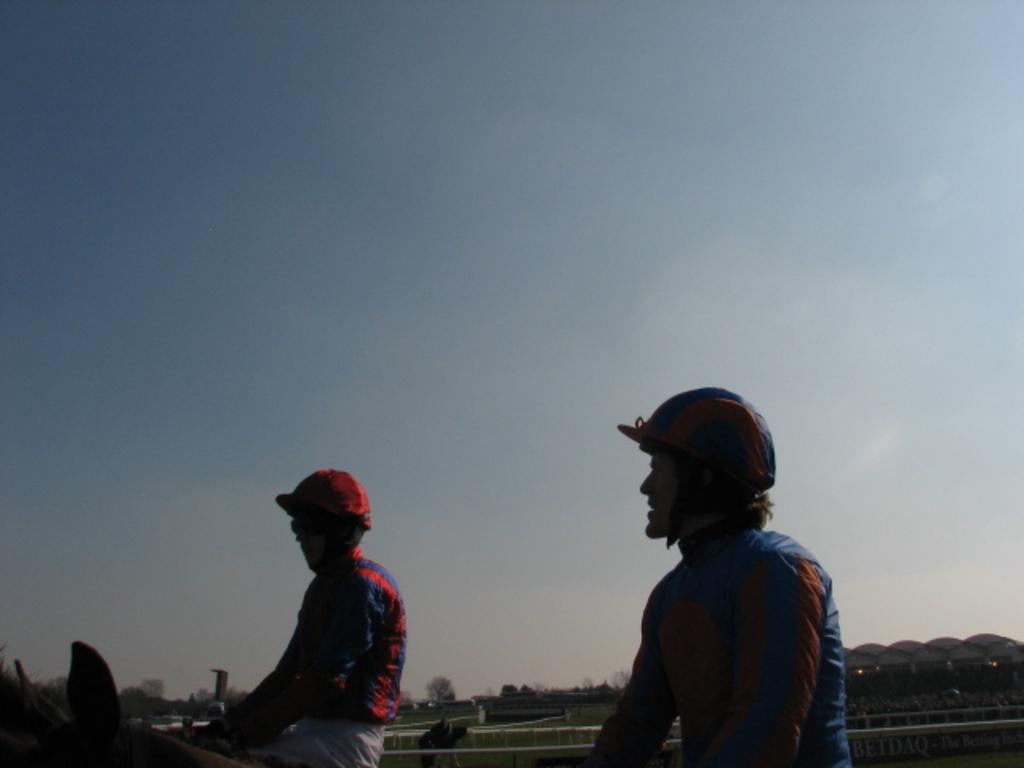Hat: (616, 384, 778, 492), (274, 466, 370, 528)
